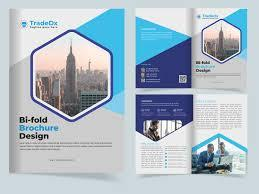paper: (9, 8, 248, 180)
